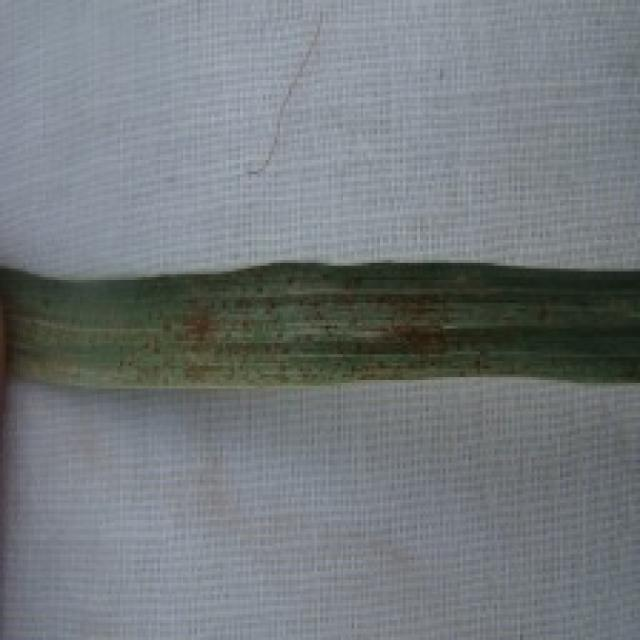Brown_Spot: (359, 323, 458, 386), (164, 334, 219, 398), (360, 293, 463, 325), (172, 300, 214, 328)
